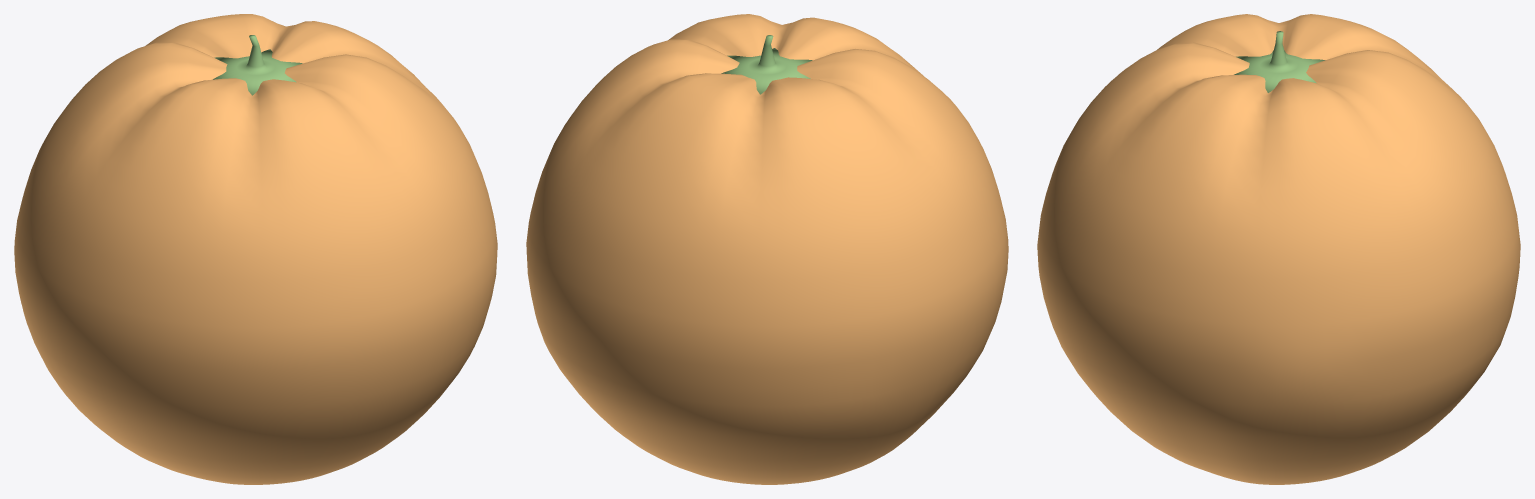
Rendered from orange.glb.
The picture shows the model from 3 angles, left to right: view 1: azimuth 30°, elevation 25°; view 2: azimuth 150°, elevation 25°; view 3: azimuth 270°, elevation 25°; orthographic projection.
Parts seen in each view (by area): view 1: Sphere, Cylinder; view 2: Sphere, Cylinder; view 3: Sphere, Cylinder.
Part boxes in pixels (left/top/right/bottom): Sphere: left=14, top=14, right=497, bottom=484; Cylinder: left=213, top=35, right=302, bottom=95; Sphere: left=526, top=14, right=1008, bottom=484; Cylinder: left=721, top=35, right=812, bottom=94; Sphere: left=1037, top=14, right=1520, bottom=484; Cylinder: left=1234, top=31, right=1325, bottom=92.
Bounding box in the file's own units: 2.03 × 1.99 × 2.02.
